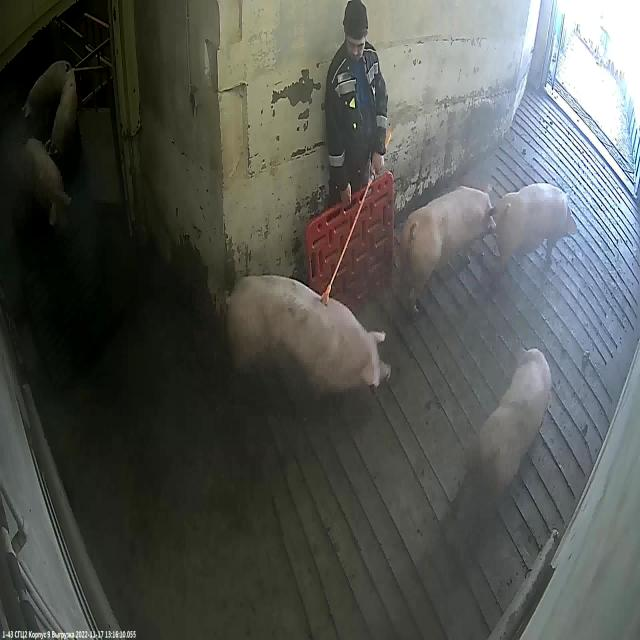pig: (227, 276, 389, 408), (474, 348, 553, 511), (404, 188, 495, 313), (501, 183, 576, 276), (26, 139, 72, 228), (24, 60, 72, 130), (46, 72, 81, 162)
